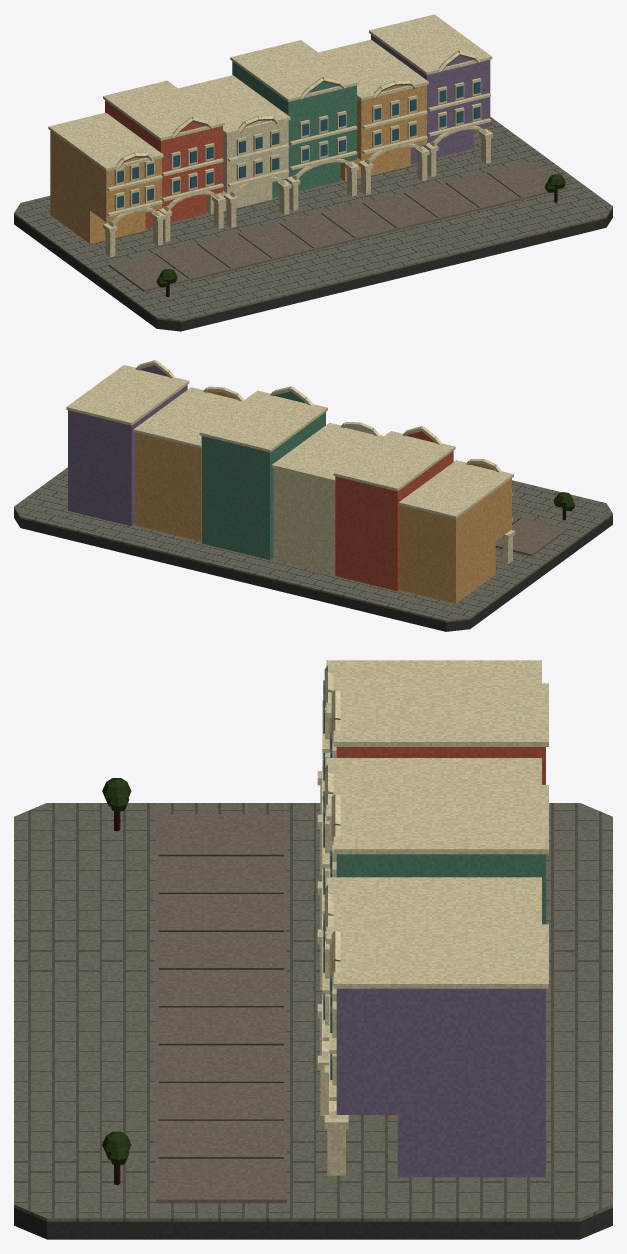
The model's file is haikou-arcades.glb.
3 views of the same model, one above another, from view 1: azimuth 30°, elevation 25°; view 2: azimuth 150°, elevation 25°; view 3: azimuth 270°, elevation 25° (orthographic). The views are drawn at different scales.
Parts seen in each view (by area): view 1: 海口骑楼老街; view 2: 海口骑楼老街; view 3: 海口骑楼老街.
Part boxes in pixels (bbox=[...]): 海口骑楼老街: bbox=[14, 14, 612, 331]; 海口骑楼老街: bbox=[14, 360, 612, 631]; 海口骑楼老街: bbox=[14, 660, 612, 1239].
Bounding box in the file's own units: 11 × 3.12 × 6.7.
Materials: 11 (10 with a texture image).
